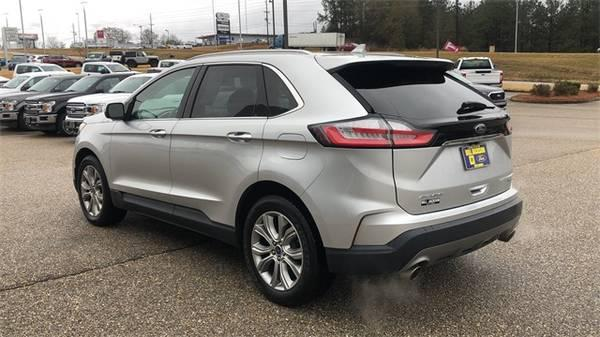Front_Fender: (74, 113, 118, 200)
Front_Left_Door: (108, 116, 174, 216)
Front_Left_Window: (115, 68, 200, 119)
Left_Taillight: (305, 114, 436, 150)
Rear_Bumper: (299, 148, 524, 273)
Rear_Fender: (258, 68, 333, 197)
Rear_Left_Door: (168, 115, 266, 229)
Rear_Left_Window: (178, 65, 267, 121)
Rear_Windshield: (333, 66, 499, 121)
Roof: (117, 53, 453, 122)
Tailgate: (391, 109, 512, 211)
Wheel: (238, 191, 325, 301), (76, 155, 126, 226)
